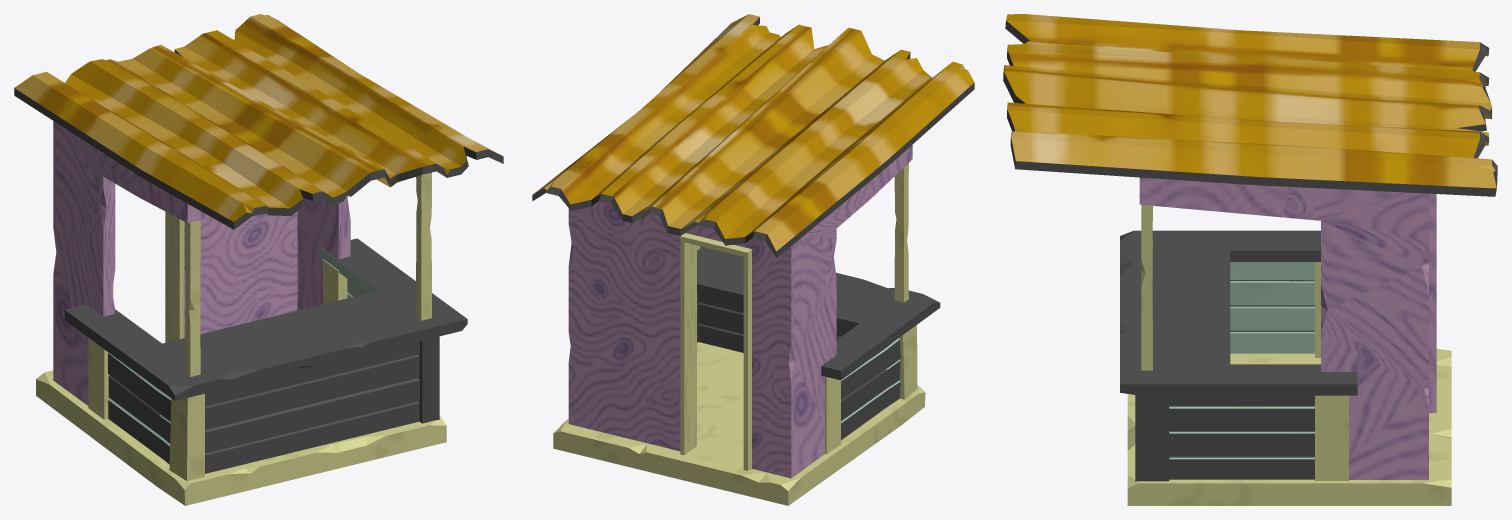
File: BeachShop_02.fbx
The picture shows the model from 3 angles, left to right: view 1: azimuth 30°, elevation 25°; view 2: azimuth 150°, elevation 25°; view 3: azimuth 270°, elevation 25°; orthographic projection. The views are drawn at different scales.
Parts seen in each view (by area): view 1: SM_Bld_Beach_Shop_02; view 2: SM_Bld_Beach_Shop_02; view 3: SM_Bld_Beach_Shop_02.
Part boxes in pixels (x1=…): SM_Bld_Beach_Shop_02: x1=14, y1=14, x2=503, y2=505; SM_Bld_Beach_Shop_02: x1=532, y1=14, x2=974, y2=505; SM_Bld_Beach_Shop_02: x1=1003, y1=14, x2=1497, y2=505.
Size of the model in its own units: 281 by 316 by 381.
